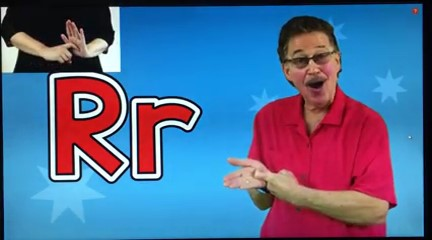R: (207, 150, 312, 209)
